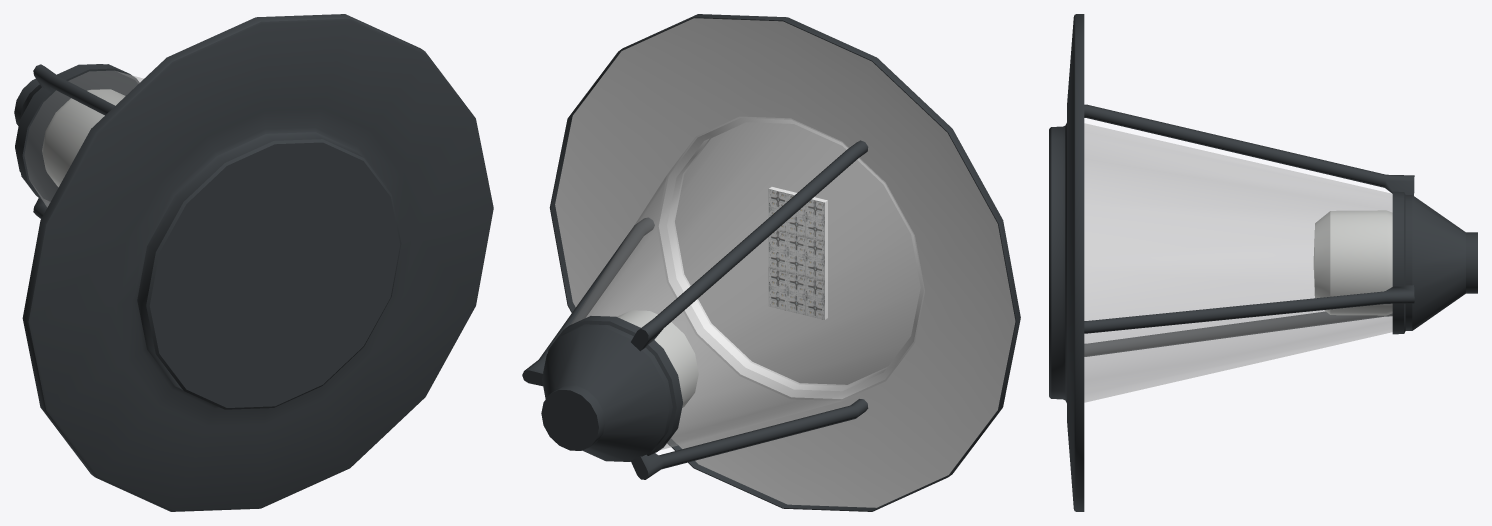
The picture shows the model from 3 angles, left to right: view 1: azimuth 30°, elevation 25°; view 2: azimuth 150°, elevation 25°; view 3: azimuth 270°, elevation 25°; orthographic projection. The views are drawn at different scales.
Parts seen in each view (by area): view 1: BezierCurve.001, Glas, Stab.001; view 2: BezierCurve.001, Glas, Stab.001, LED; view 3: Glas, BezierCurve.001, Stab.001.
Part boxes in pixels (x1,y1,x2,y2): BezierCurve.001: (14,14,493,511); Glas: (24,71,143,207); Stab.001: (33,64,114,218); BezierCurve.001: (541,14,1020,511); Glas: (570,117,924,449); Stab.001: (522,140,868,479); LED: (768,187,827,319); Glas: (1084,123,1392,402); BezierCurve.001: (1049,14,1477,511); Stab.001: (1084,104,1414,356).
Size of the model in its own units: 0.7483 by 0.7483 by 0.6439.
6 materials, 5 textured.
